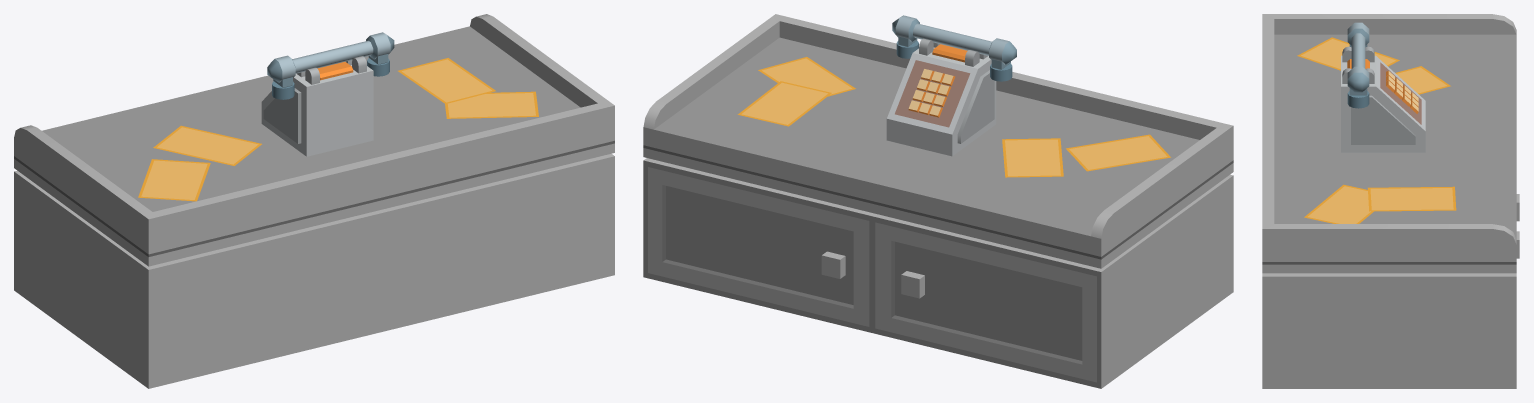
The model's file is employTable.fbx.
The picture shows the model from 3 angles, left to right: view 1: azimuth 30°, elevation 25°; view 2: azimuth 150°, elevation 25°; view 3: azimuth 270°, elevation 25°; orthographic projection. The views are drawn at different scales.
Visible parts, largest first — view 1: employTable; view 2: employTable; view 3: employTable.
Part boxes in pixels (x1,y1,x2,y2): employTable: (14, 14, 614, 388); employTable: (643, 14, 1233, 388); employTable: (1262, 14, 1519, 388).
Size of the model in its own units: 200 by 102 by 101.
